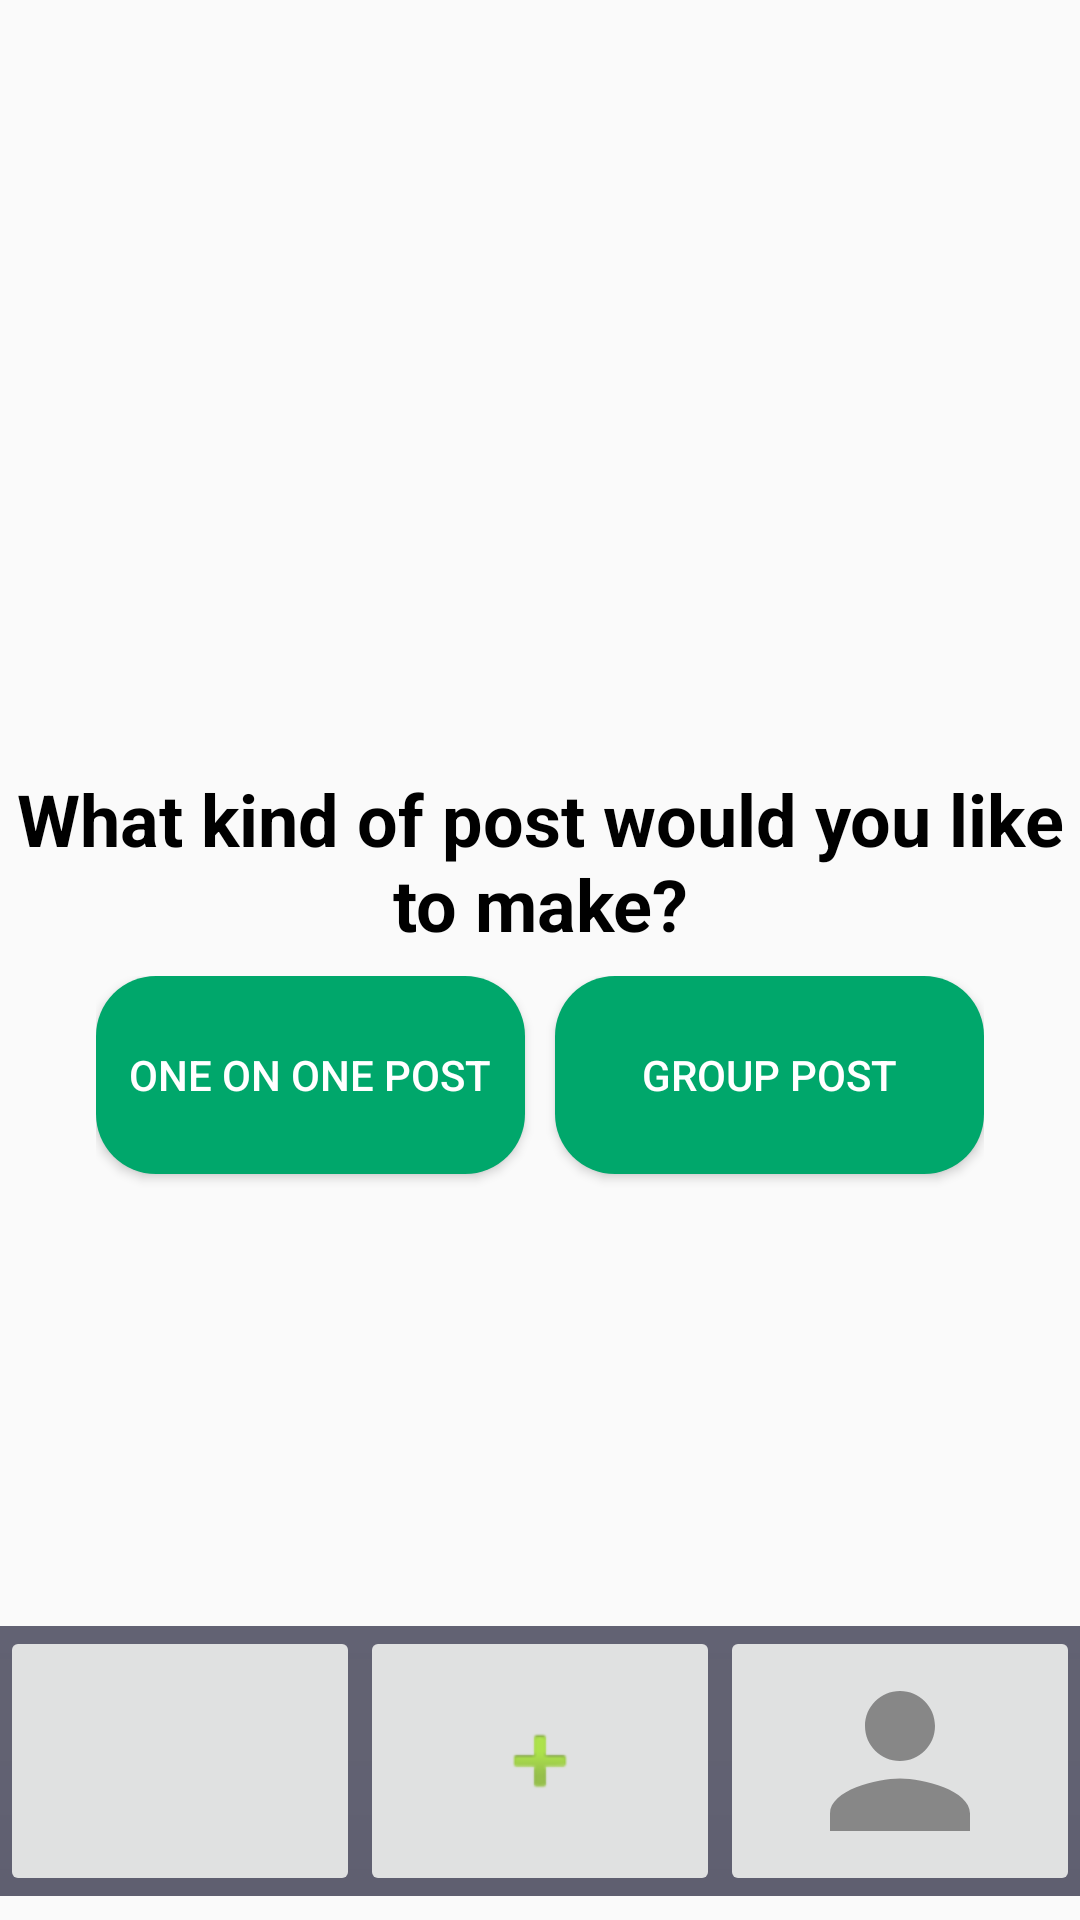

Named icons in this screenshot (1080*1920) and their centers, (x=x, y=y):
add: (x=540, y=1761)
Profile: (x=900, y=1761)
